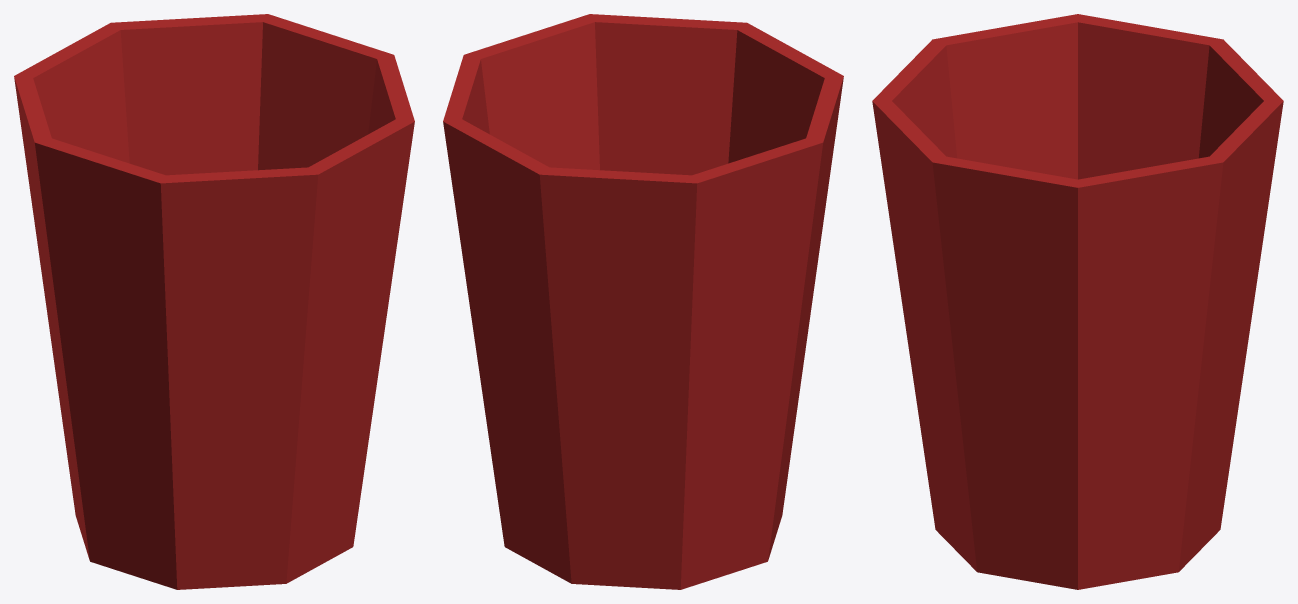
Rendered from Red_Cup.fbx.
3 views of the same model, side by side, from view 1: azimuth 30°, elevation 25°; view 2: azimuth 150°, elevation 25°; view 3: azimuth 270°, elevation 25° (orthographic).
Parts seen in each view (by area): view 1: Red_Cup; view 2: Red_Cup; view 3: Red_Cup.
Part boxes in pixels (x1=…): Red_Cup: x1=14, y1=14, x2=414, y2=589; Red_Cup: x1=443, y1=14, x2=843, y2=589; Red_Cup: x1=872, y1=14, x2=1283, y2=589.
Bounding box in the file's own units: 47.63 × 54.77 × 47.63.
